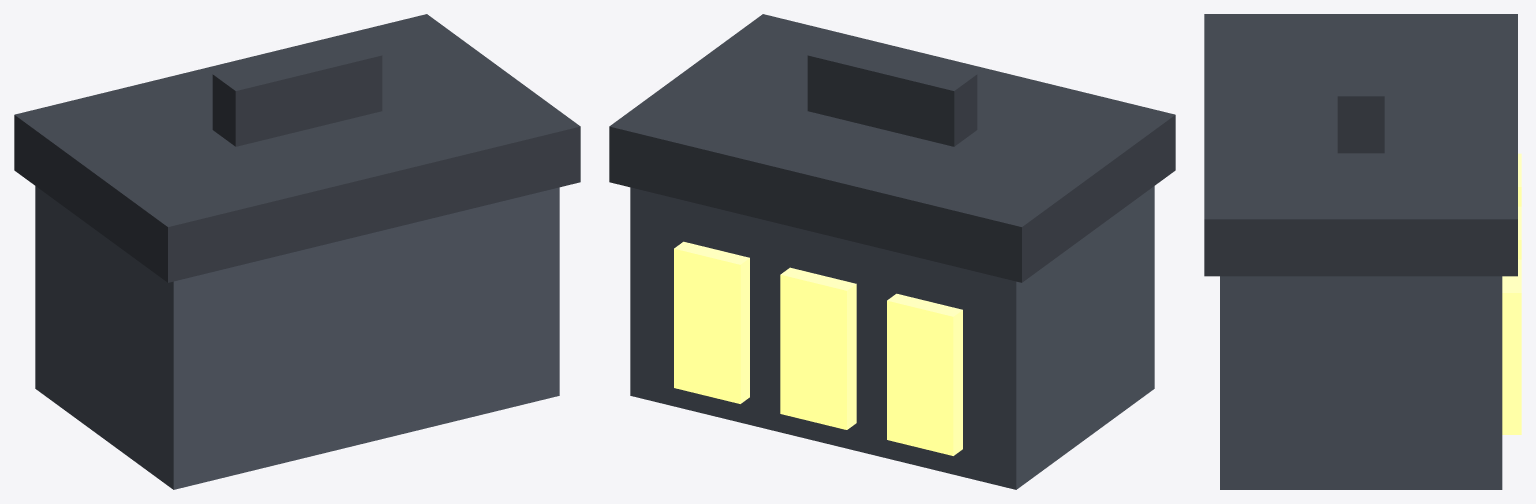
File: pickup_ammo.glb
3 renders of one model, left to right at view 1: azimuth 30°, elevation 25°; view 2: azimuth 150°, elevation 25°; view 3: azimuth 270°, elevation 25°, orthographic. The views are drawn at different scales.
Parts seen in each view (by area): view 1: pickup_ammo; view 2: pickup_ammo; view 3: pickup_ammo.
Part boxes in pixels (bbox=[...]): pickup_ammo: bbox=[14, 14, 580, 489]; pickup_ammo: bbox=[609, 14, 1175, 489]; pickup_ammo: bbox=[1204, 14, 1521, 489].
Bounding box in the file's own units: 0.62 × 0.47 × 0.405.
